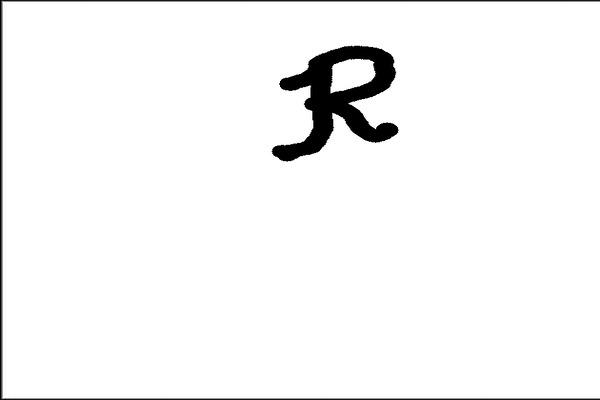R: (265, 41, 404, 172)
